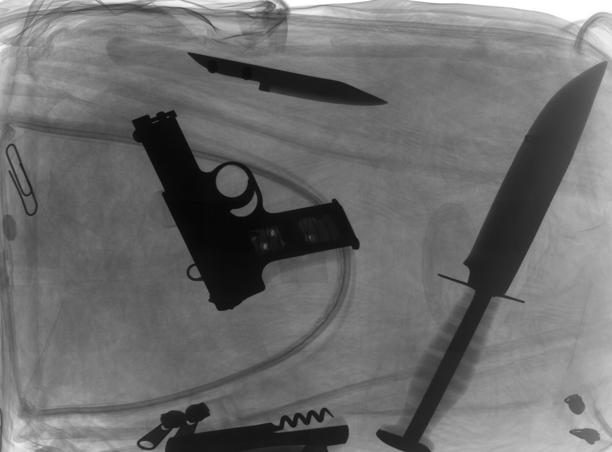Handgun: (130, 106, 366, 313)
Knife: (374, 56, 610, 452), (106, 32, 390, 106)
